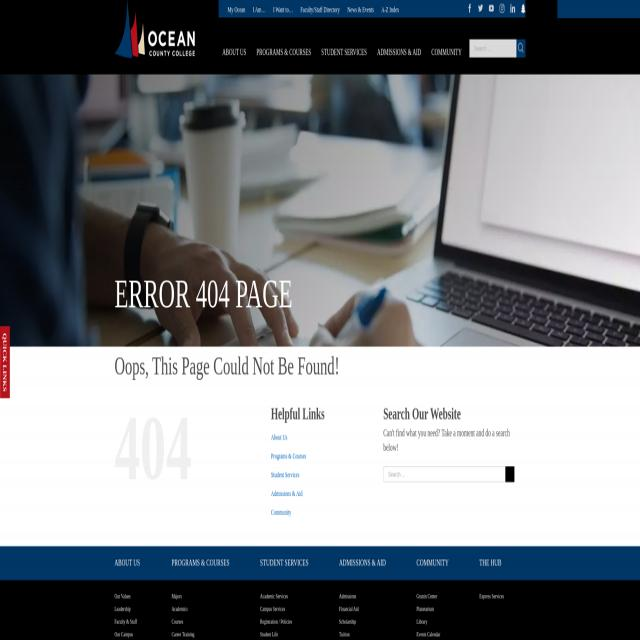button: (115, 0, 195, 59), (254, 39, 314, 74), (318, 39, 369, 74), (374, 39, 424, 74), (429, 39, 465, 74), (219, 39, 249, 74), (0, 327, 10, 399), (516, 39, 526, 57), (506, 466, 514, 482), (510, 4, 516, 13), (478, 4, 484, 13), (489, 4, 494, 13), (500, 4, 504, 13), (521, 4, 525, 13), (468, 4, 472, 13)
field: (383, 466, 505, 482), (469, 39, 516, 57)
